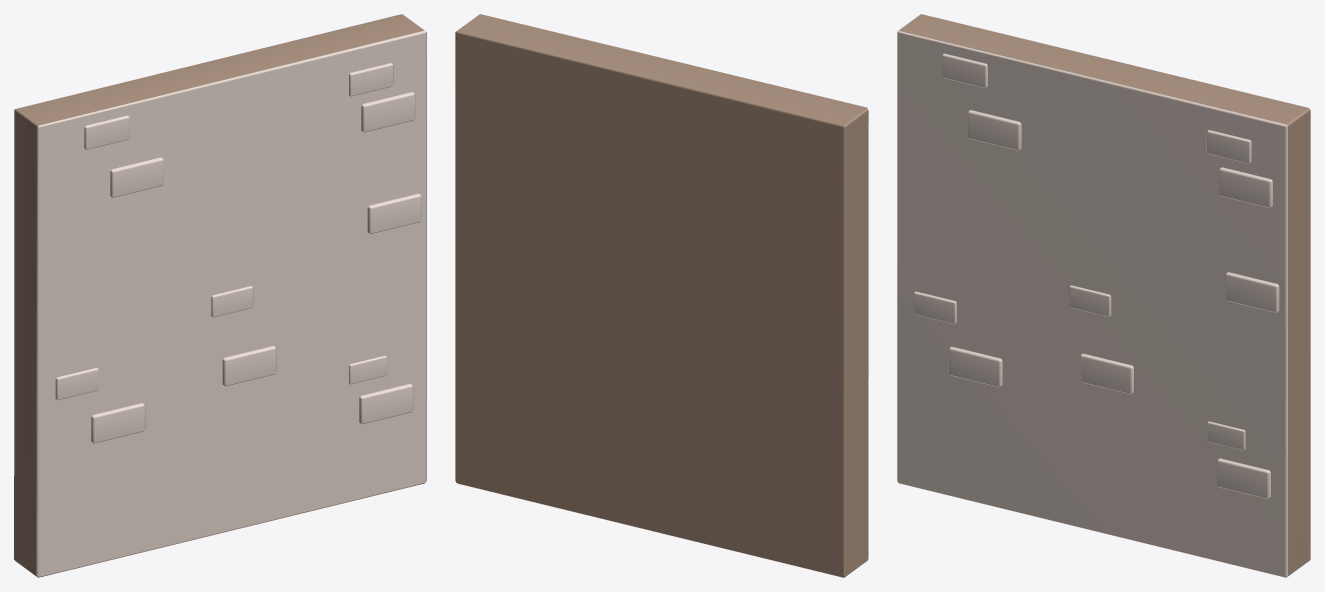
Rendered from Wall_23.glb.
3 views of the same model, side by side, from view 1: azimuth 30°, elevation 25°; view 2: azimuth 150°, elevation 25°; view 3: azimuth 330°, elevation 25° (orthographic).
Parts seen in each view (by area): view 1: Wall_23; view 2: Wall_23; view 3: Wall_23.
Part boxes in pixels (x1,y1,x2,y2): Wall_23: [14, 14, 426, 577]; Wall_23: [455, 14, 868, 577]; Wall_23: [897, 14, 1310, 577].
Size of the model in its own units: 3.61 by 4 by 0.4349.
Materials: 1 (1 with a texture image).
